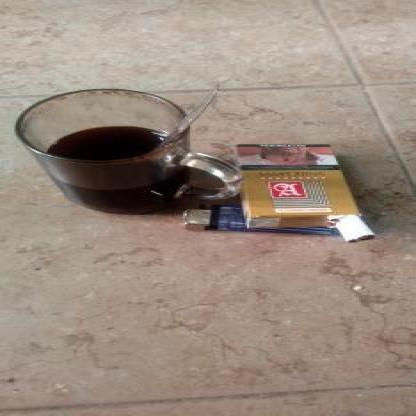objects: (236, 144, 358, 227)
